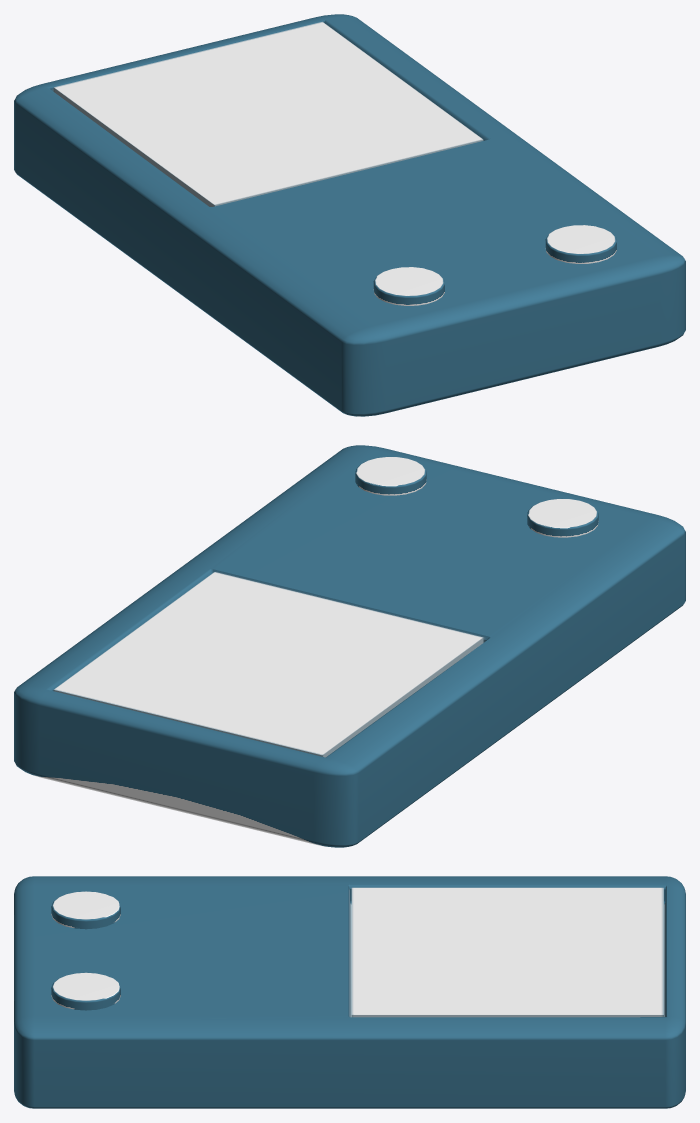
The model's file is GadgetPainted.glb.
The picture shows the model from 3 angles, top to bottom: view 1: azimuth 30°, elevation 25°; view 2: azimuth 150°, elevation 25°; view 3: azimuth 270°, elevation 25°; orthographic projection. The views are drawn at different scales.
Parts seen in each view (by area): view 1: polySurface2; view 2: polySurface2; view 3: polySurface2.
Boxes of the visible parts, x1,y1,x2,y2 form: polySurface2: [14, 14, 685, 416]; polySurface2: [14, 445, 685, 847]; polySurface2: [14, 876, 685, 1108].
Bounding box in the file's own units: 1 × 0.2653 × 1.75.
1 material, 1 textured.
